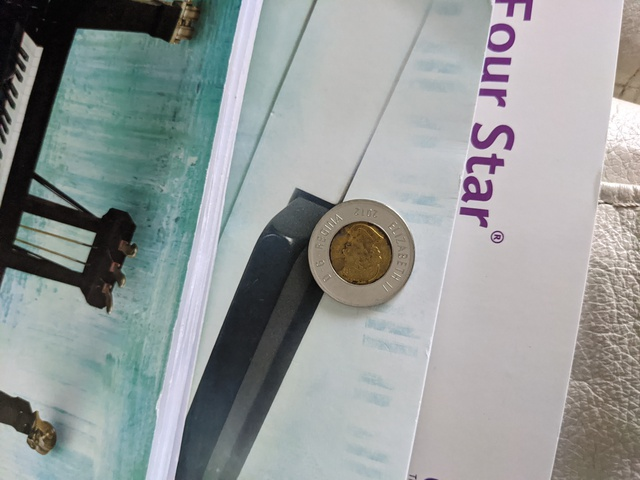twonie: (307, 200, 418, 304)
